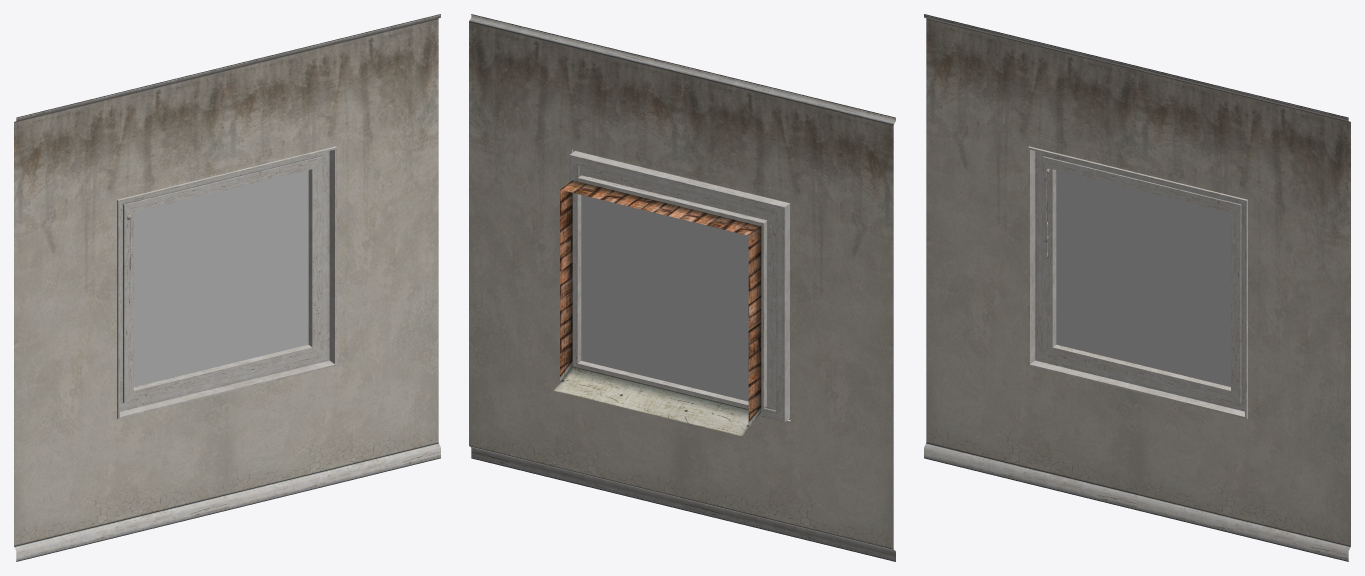
Rendered from livingroom_damaged_flat_window_no_blinds.dae.
The picture shows the model from 3 angles, left to right: view 1: azimuth 30°, elevation 25°; view 2: azimuth 150°, elevation 25°; view 3: azimuth 330°, elevation 25°; orthographic projection.
Parts seen in each view (by area): view 1: window, pPlane13; view 2: window, pPlane13; view 3: window, pPlane13.
Part boxes in pixels (x1,y1,x2,y2): window: [14, 14, 440, 561]; pPlane13: [134, 170, 308, 386]; window: [469, 14, 895, 561]; pPlane13: [580, 175, 768, 406]; window: [924, 14, 1350, 561]; pPlane13: [1056, 170, 1230, 386].
Bounding box in the file's own units: 4 × 4 × 0.5829.
